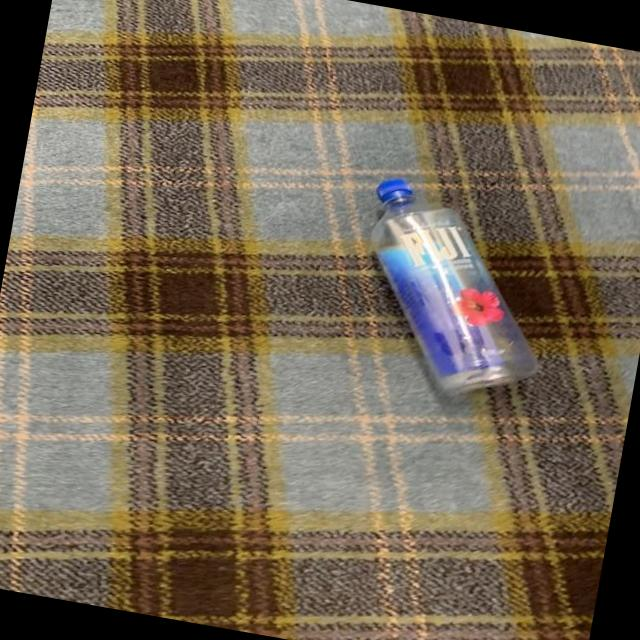plastic_bottle: (343, 175, 567, 411)
